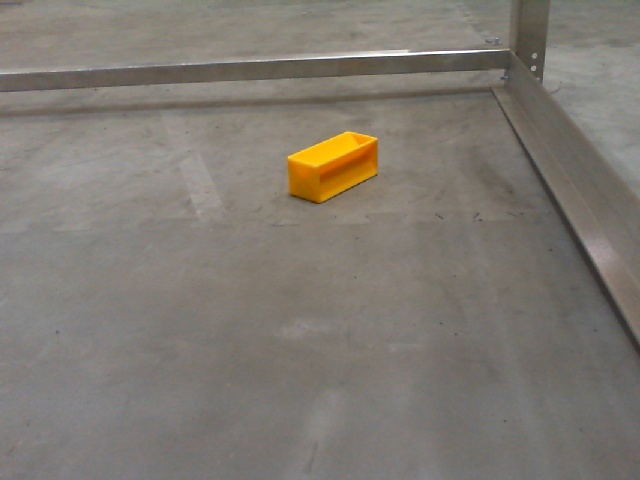YellowSample: (280, 125, 383, 208)
